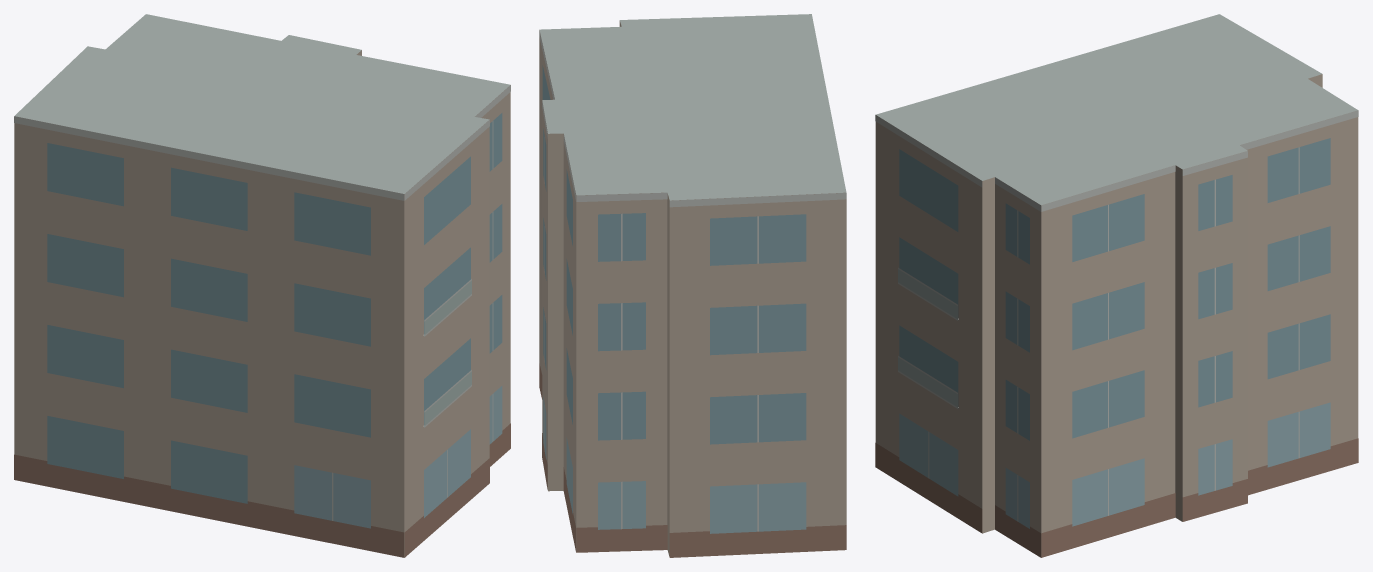
File: survey-upis-32805770.glb
The picture shows the model from 3 angles, left to right: view 1: azimuth 30°, elevation 25°; view 2: azimuth 150°, elevation 25°; view 3: azimuth 270°, elevation 25°; orthographic projection. The views are drawn at different scales.
Parts seen in each view (by area): view 1: survey-upis-32805770.tmp; view 2: survey-upis-32805770.tmp; view 3: survey-upis-32805770.tmp.
Boxes of the visible parts, box(x1,y1,x2,y2) form: survey-upis-32805770.tmp: box(14, 14, 510, 557); survey-upis-32805770.tmp: box(539, 14, 846, 557); survey-upis-32805770.tmp: box(875, 14, 1358, 557).
Bounding box in the file's own units: 15.03 × 12.9 × 16.02.
